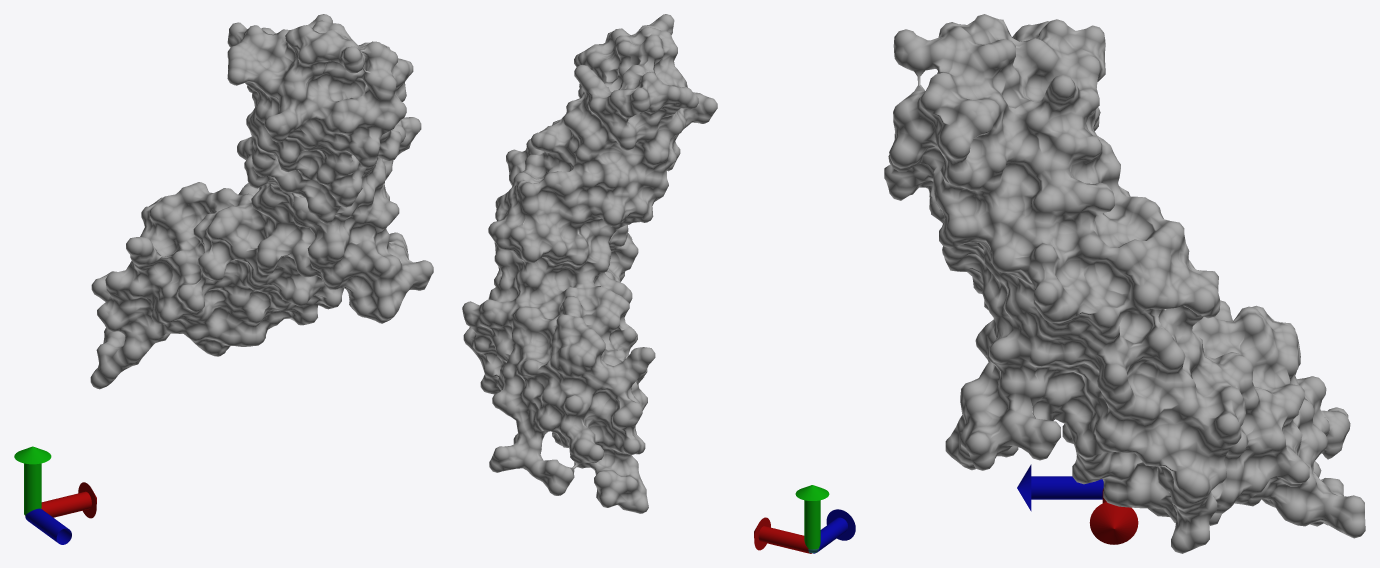
File: prueba2.obj
3 renders of one model, left to right at view 1: azimuth 30°, elevation 25°; view 2: azimuth 150°, elevation 25°; view 3: azimuth 270°, elevation 25°, orthographic. The views are drawn at different scales.
Visible parts, largest first — view 1: vmd_mol0_rep0, vmd_axes; view 2: vmd_mol0_rep0, vmd_axes; view 3: vmd_mol0_rep0, vmd_axes.
Boxes of the visible parts, x1=… form: vmd_mol0_rep0: x1=90, y1=14, x2=433, y2=389; vmd_axes: x1=14, y1=446, x2=96, y2=544; vmd_mol0_rep0: x1=462, y1=14, x2=717, y2=513; vmd_axes: x1=754, y1=485, x2=855, y2=553; vmd_mol0_rep0: x1=884, y1=14, x2=1365, y2=553; vmd_axes: x1=1017, y1=464, x2=1138, y2=544.
Bounding box in the file's own units: 1.47 × 1.81 × 1.24.
